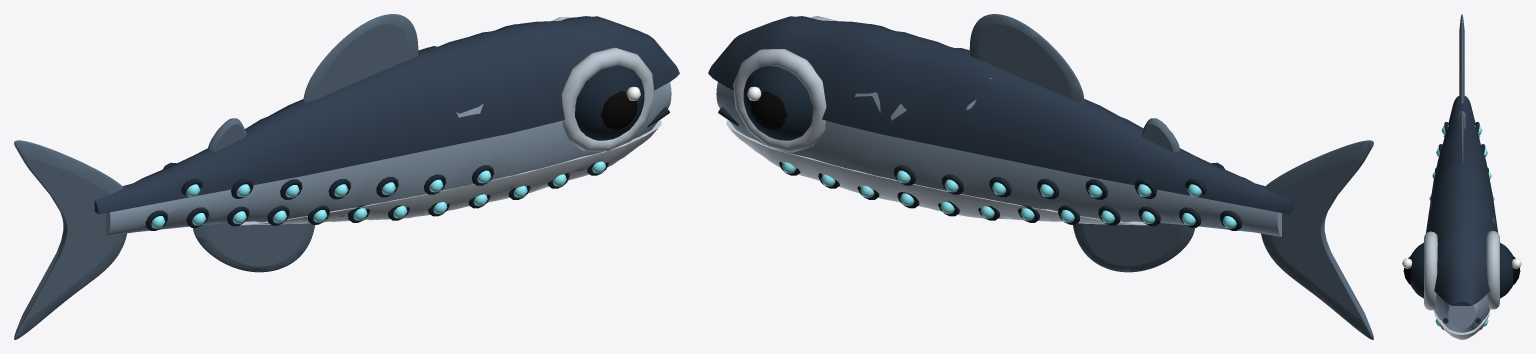
Rendered from lanternfish.glb.
3 renders of one model, left to right at view 1: azimuth 30°, elevation 25°; view 2: azimuth 150°, elevation 25°; view 3: azimuth 270°, elevation 25°, orthographic. The views are drawn at different scales.
Visible parts, largest first — view 1: Back, Fins, Body, Belly, EyeRims, LightCups, Irises, Lights, Pupils; view 2: Back, Fins, Body, Belly, EyeRims, LightCups, Irises, Lights, Pupils; view 3: Back, EyeRims, Body, Irises, Fins, Belly, Lights, Pupils, Glints, LightCups.
Boxes of the visible parts, x1,y1,x2,y2 form: Back: (94,16,679,214); Fins: (14,14,418,339); Body: (106,82,671,236); Belly: (240,120,661,225); EyeRims: (552,17,654,151); LightCups: (145,162,608,230); Irises: (575,65,644,140); Lights: (151,161,605,228); Pupils: (600,91,637,129); Back: (708,16,1293,214); Fins: (969,14,1373,339); Body: (716,78,1281,236); Belly: (726,120,1147,225); EyeRims: (733,16,838,152); LightCups: (779,161,1242,230); Irises: (743,66,813,140); Lights: (782,162,1236,228); Pupils: (750,91,787,129); Back: (1425,96,1497,305); EyeRims: (1424,231,1499,310); Body: (1430,204,1495,332); Irises: (1410,242,1513,298); Fins: (1458,14,1465,162); Belly: (1433,309,1490,339); Lights: (1429,125,1494,326); Pupils: (1403,256,1520,284); Glints: (1402,258,1521,268); LightCups: (1435,122,1488,329).
Size of the model in its own units: 0.1181 by 0.0402 by 0.0261.
